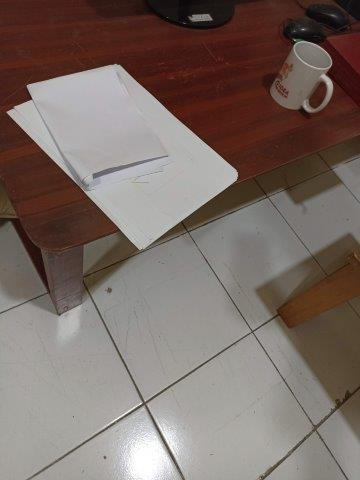kertas: (7, 64, 238, 250)
